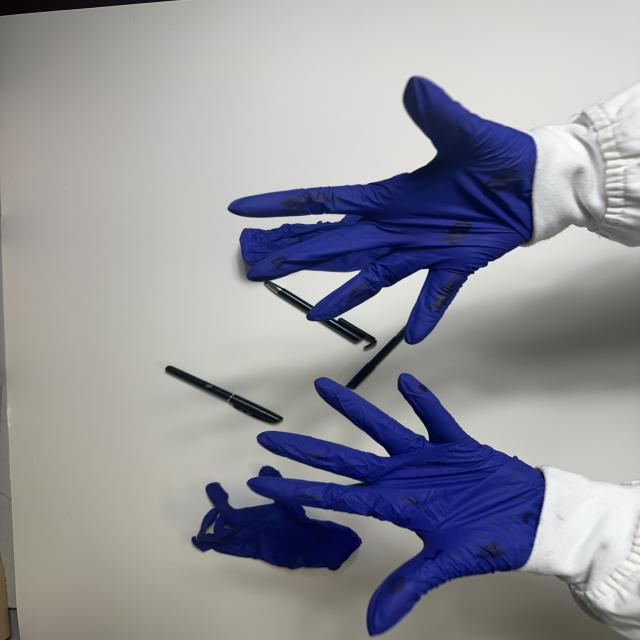gloves_contaminated: (229, 77, 537, 344), (248, 374, 545, 634)
